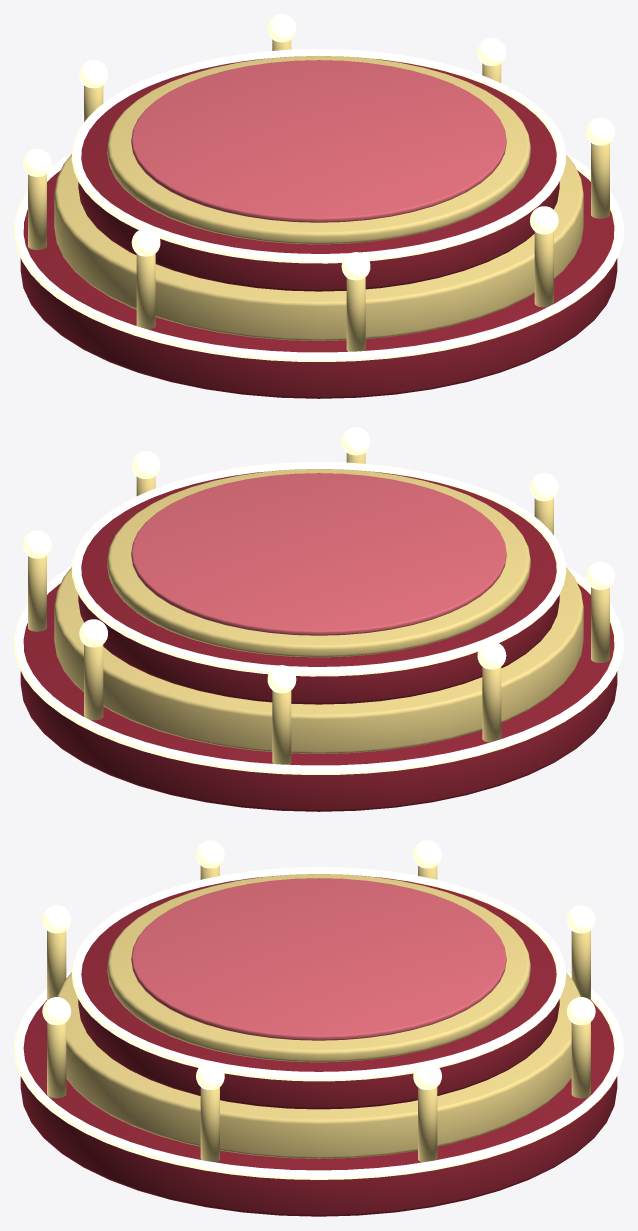
The model's file is podium-ballondor-great.glb.
3 views of the same model, one above another, from view 1: azimuth 30°, elevation 25°; view 2: azimuth 150°, elevation 25°; view 3: azimuth 270°, elevation 25° (orthographic).
Visible parts, largest first — view 1: deck, base, tier, tier2, top, Torus.001, Torus, Cylinder.006, Cylinder.004, Cylinder.005, Cylinder.007, Cylinder.003 (+8 smaller); view 2: deck, base, tier, tier2, top, Torus.001, Torus, Cylinder.001, Cylinder.003, Cylinder.002, Cylinder, Cylinder.004 (+8 smaller); view 3: deck, base, tier, tier2, top, Torus.001, Torus, Cylinder.001, Cylinder.006, Cylinder, Cylinder.007, Cylinder.002 (+9 smaller).
Boxes of the visible parts, x1=… form: deck: x1=131, y1=60, x2=506, y2=222; base: x1=20, y1=170, x2=617, y2=398; tier: x1=54, y1=154, x2=583, y2=340; tier2: x1=78, y1=57, x2=559, y2=291; top: x1=107, y1=56, x2=530, y2=244; Torus.001: x1=71, y1=49, x2=566, y2=263; Torus: x1=14, y1=153, x2=623, y2=361; Cylinder.006: x1=534, y1=231, x2=553, y2=307; Cylinder.004: x1=136, y1=254, x2=155, y2=329; Cylinder.005: x1=346, y1=277, x2=365, y2=351; Cylinder.007: x1=591, y1=143, x2=609, y2=218; Cylinder.003: x1=28, y1=174, x2=46, y2=249; deck: x1=131, y1=473, x2=506, y2=635; base: x1=20, y1=583, x2=617, y2=811; tier: x1=54, y1=567, x2=583, y2=753; tier2: x1=78, y1=470, x2=559, y2=704; top: x1=107, y1=469, x2=530, y2=657; Torus.001: x1=71, y1=462, x2=566, y2=676; Torus: x1=14, y1=566, x2=623, y2=774; Cylinder.001: x1=84, y1=644, x2=103, y2=720; Cylinder.003: x1=482, y1=667, x2=501, y2=742; Cylinder.002: x1=272, y1=690, x2=291, y2=764; Cylinder: x1=28, y1=556, x2=46, y2=631; Cylinder.004: x1=591, y1=587, x2=609, y2=662; deck: x1=131, y1=878, x2=506, y2=1040; base: x1=20, y1=1000, x2=617, y2=1216; tier: x1=57, y1=972, x2=580, y2=1158; tier2: x1=78, y1=875, x2=559, y2=1109; top: x1=107, y1=874, x2=530, y2=1062; Torus.001: x1=71, y1=867, x2=566, y2=1081; Torus: x1=14, y1=971, x2=623, y2=1179; Cylinder.001: x1=571, y1=1022, x2=590, y2=1098; Cylinder.006: x1=47, y1=1022, x2=66, y2=1098; Cylinder: x1=418, y1=1087, x2=437, y2=1162; Cylinder.007: x1=200, y1=1087, x2=219, y2=1162; Cylinder.002: x1=571, y1=930, x2=590, y2=1000.
Size of the model in its own units: 6.34 by 1.6 by 6.34.
